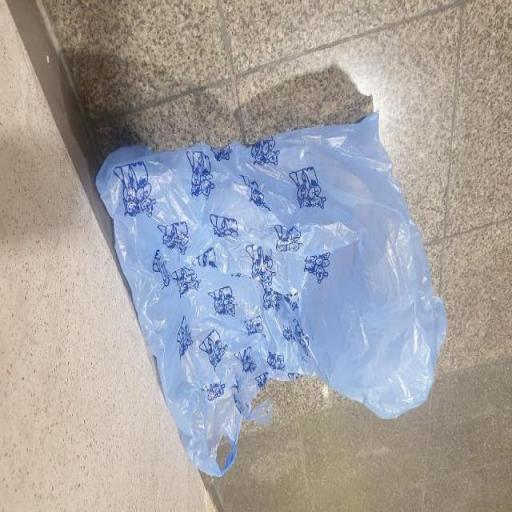plastic-bag: (93, 109, 450, 477)
